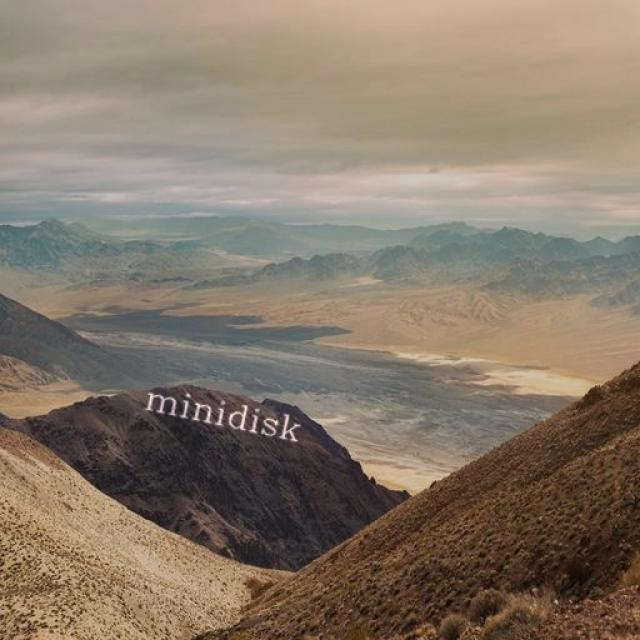watermark: (134, 382, 323, 447)
